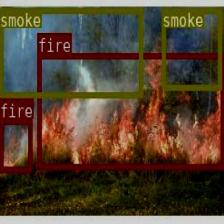fire: (37, 52, 224, 168), (0, 118, 31, 171)
smoke: (0, 7, 142, 96), (162, 7, 222, 88)
